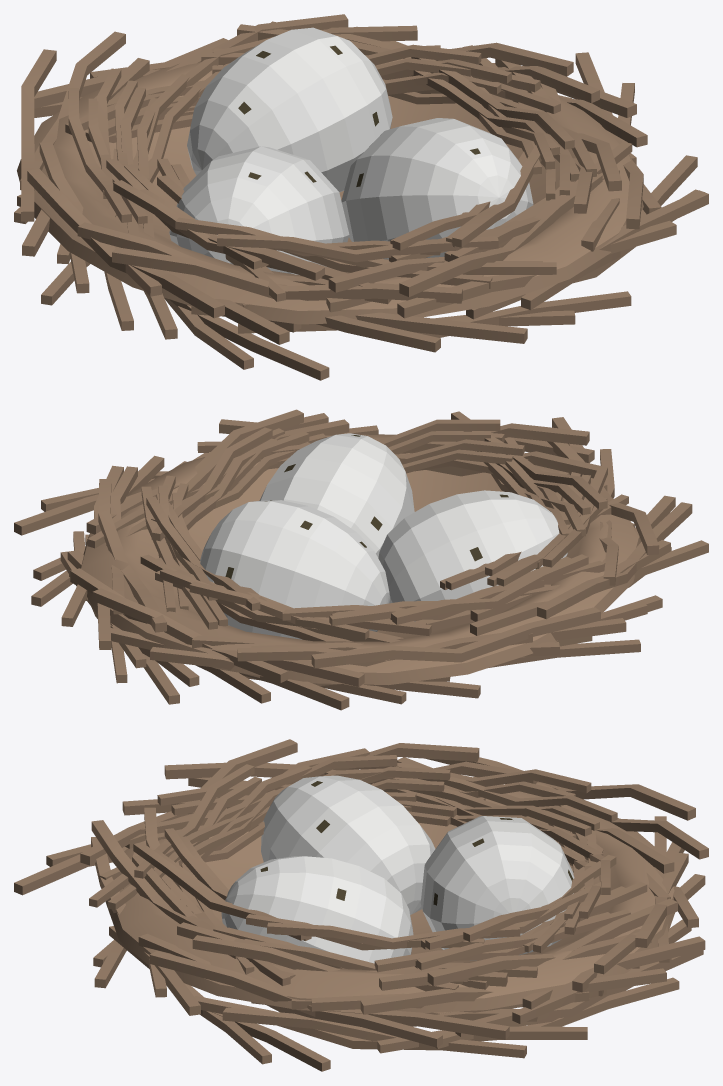
The model's file is Birdsnest_3eggs.fbx.
3 renders of one model, top to bottom at view 1: azimuth 30°, elevation 25°; view 2: azimuth 150°, elevation 25°; view 3: azimuth 270°, elevation 25°, orthographic. The views are drawn at different scales.
Visible parts, largest first — view 1: group7, pCylinder1, polySurface2, polySurface1, polySurface3; view 2: group7, pCylinder1, polySurface2, polySurface3, polySurface1; view 3: group7, pCylinder1, polySurface3, polySurface2, polySurface1.
Part boxes in pixels (<box>): group7: <box>14,14,708,380</box>; pCylinder1: <box>17,55,643,324</box>; polySurface2: <box>187,27,392,192</box>; polySurface1: <box>341,118,533,259</box>; polySurface3: <box>169,146,349,274</box>; group7: <box>14,409,708,710</box>; pCylinder1: <box>80,434,640,685</box>; polySurface2: <box>200,500,390,639</box>; polySurface3: <box>378,490,567,621</box>; polySurface1: <box>259,433,414,557</box>; group7: <box>14,739,708,1071</box>; pCylinder1: <box>105,784,675,1012</box>; polySurface3: <box>261,775,435,914</box>; polySurface2: <box>420,816,574,960</box>; polySurface1: <box>221,856,413,963</box>.
Bounding box in the file's own units: 0.0444 × 0.0127 × 0.0469.
